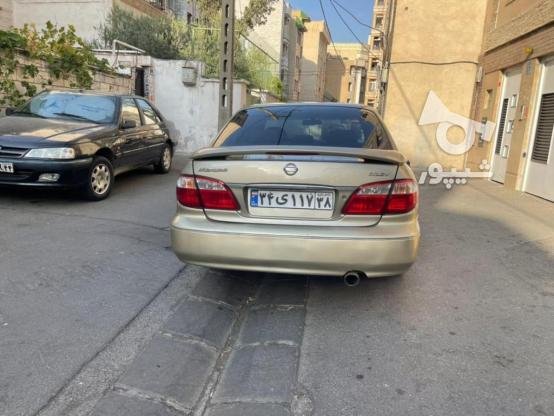car: (249, 188, 333, 214), (1, 161, 14, 172)
